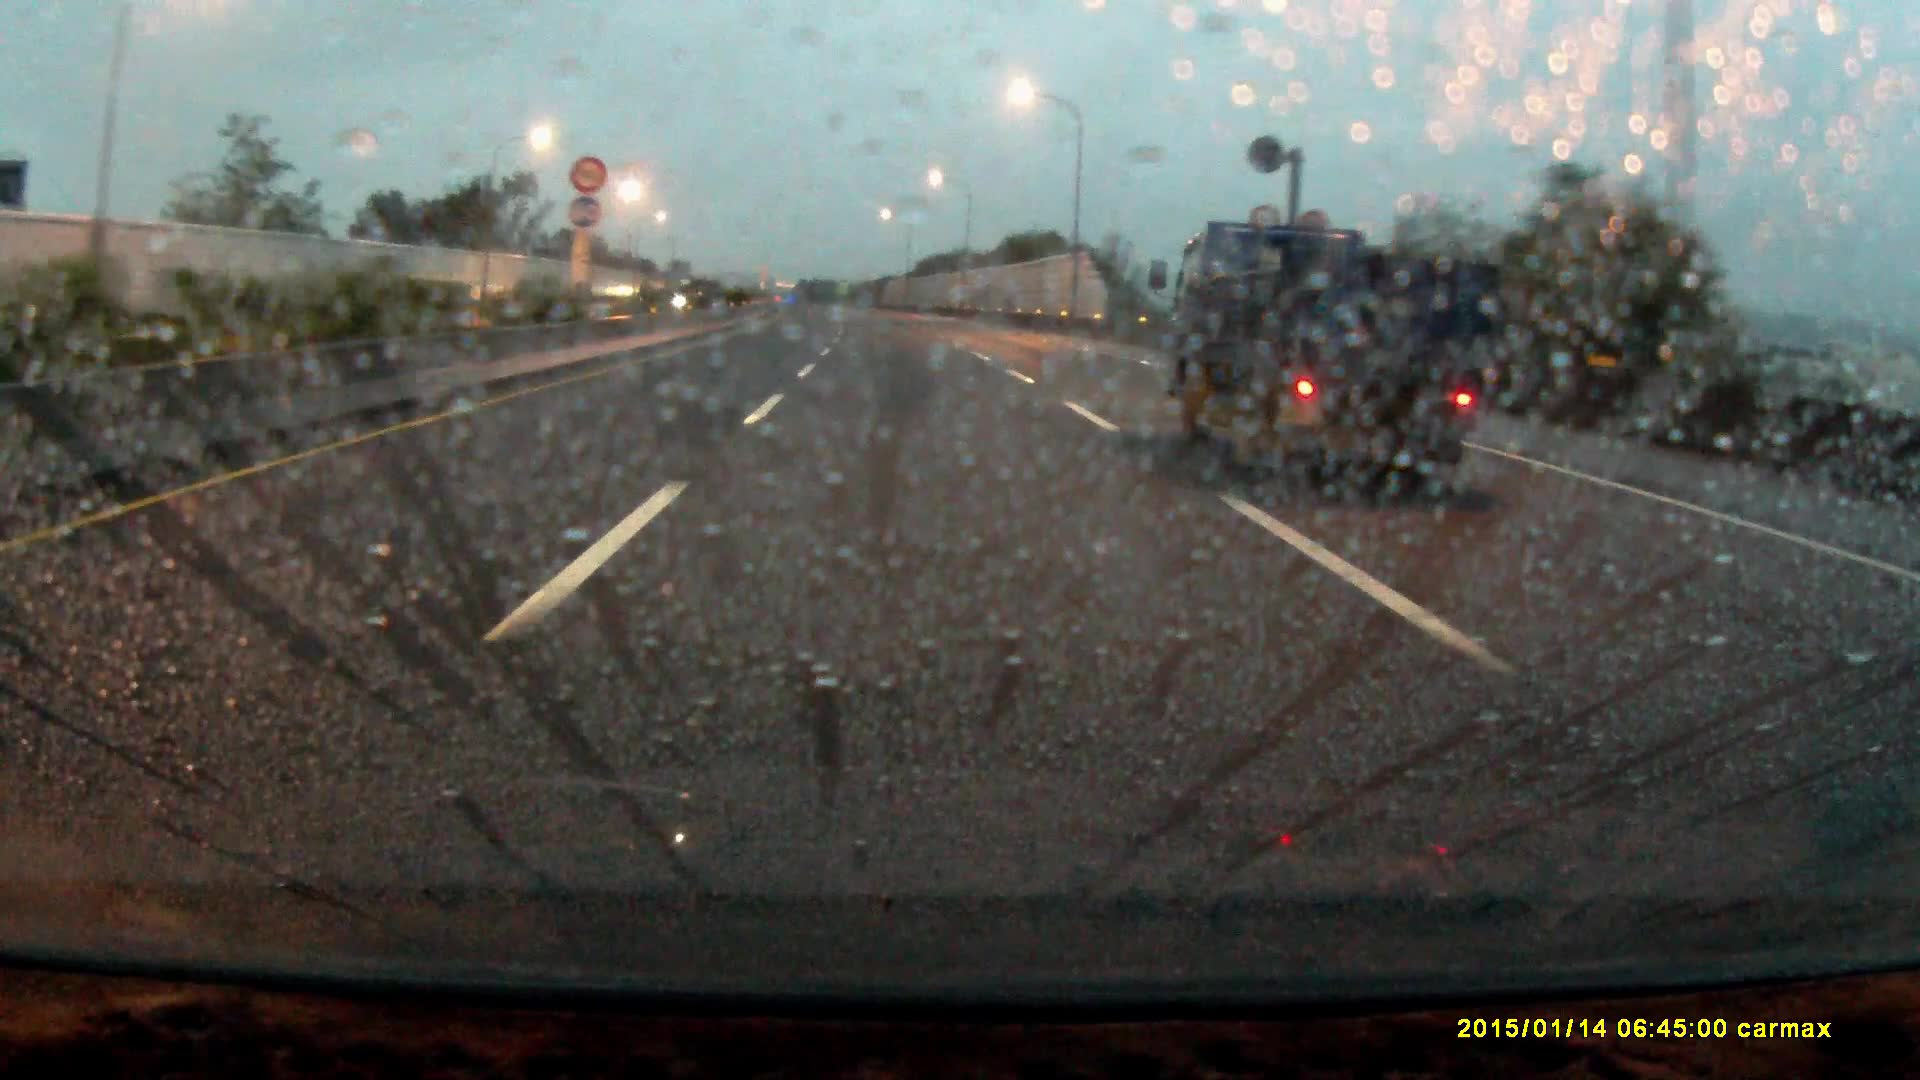vehicle: (1196, 206, 1510, 516)
